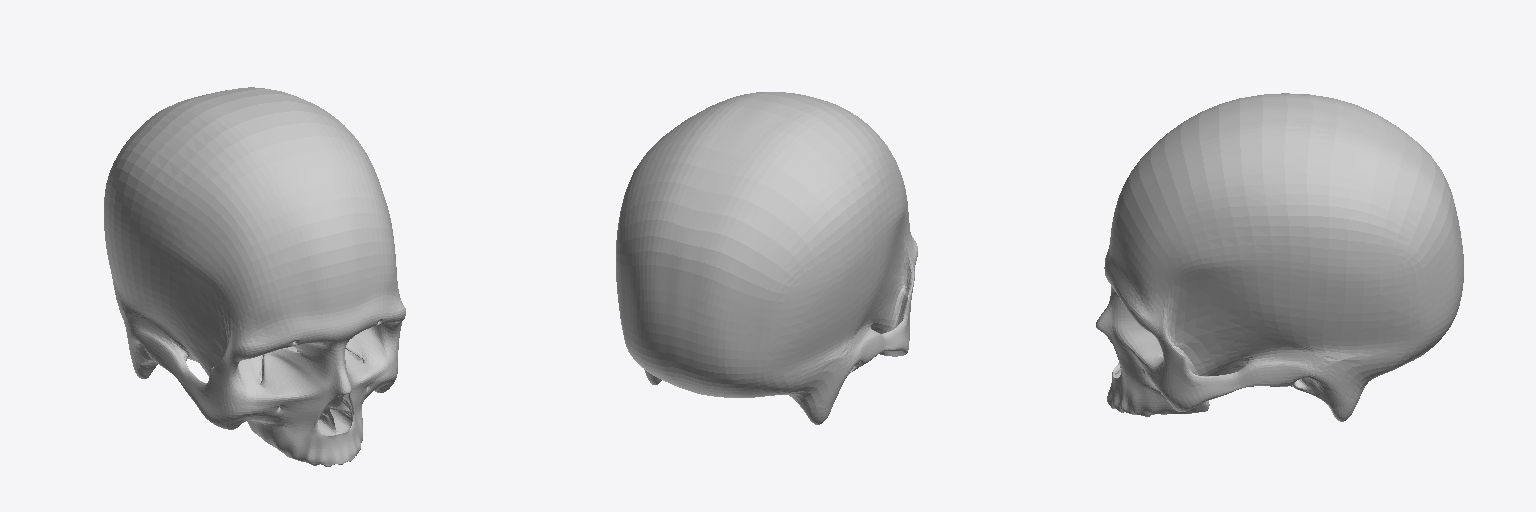
Rendered from skull.obj.
3 views of the same model, side by side, from view 1: azimuth 30°, elevation 25°; view 2: azimuth 150°, elevation 25°; view 3: azimuth 270°, elevation 25° (orthographic).
Visible parts, largest first — view 1: Skull_High_Res; view 2: Skull_High_Res; view 3: Skull_High_Res.
Part boxes in pixels (left/top/right/bottom): Skull_High_Res: left=104, top=87, right=405, bottom=466; Skull_High_Res: left=616, top=92, right=917, bottom=424; Skull_High_Res: left=1096, top=93, right=1463, bottom=421.
Bounding box in the file's own units: 1.59 × 2.01 × 2.27.